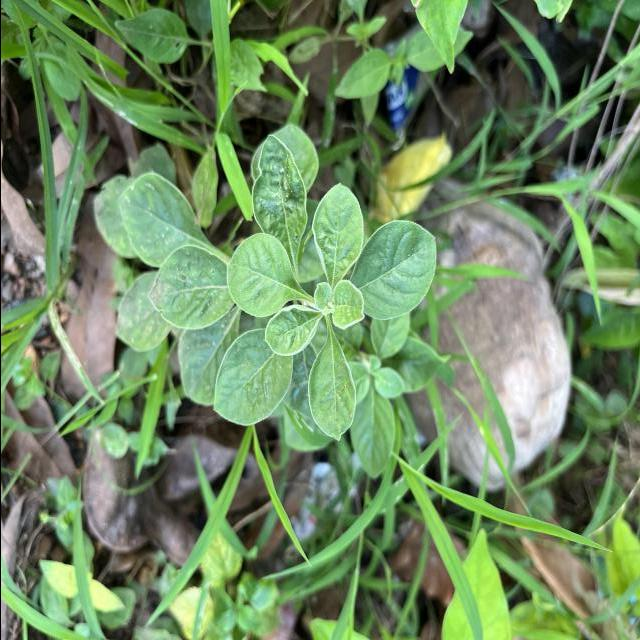Aerva lanata: (347, 217, 438, 323), (210, 326, 298, 429), (224, 232, 307, 320), (309, 180, 365, 293), (304, 330, 358, 444), (260, 303, 322, 359)
